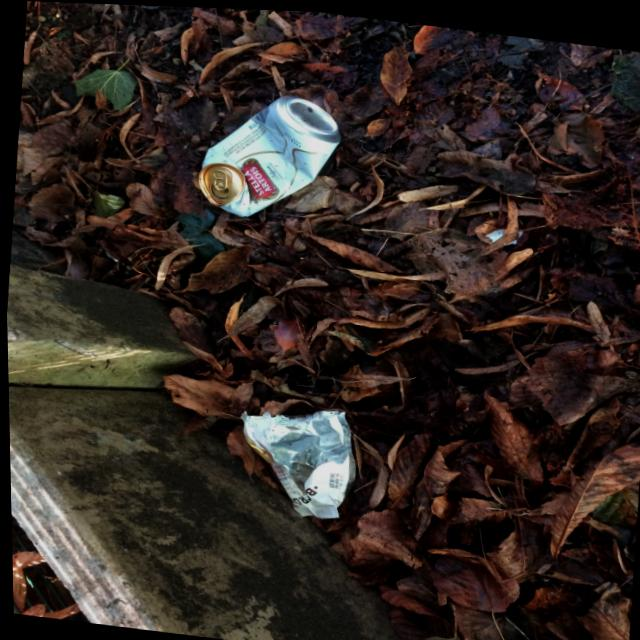Can-Metal: (167, 66, 366, 237)
Plastic: (221, 391, 369, 524)
